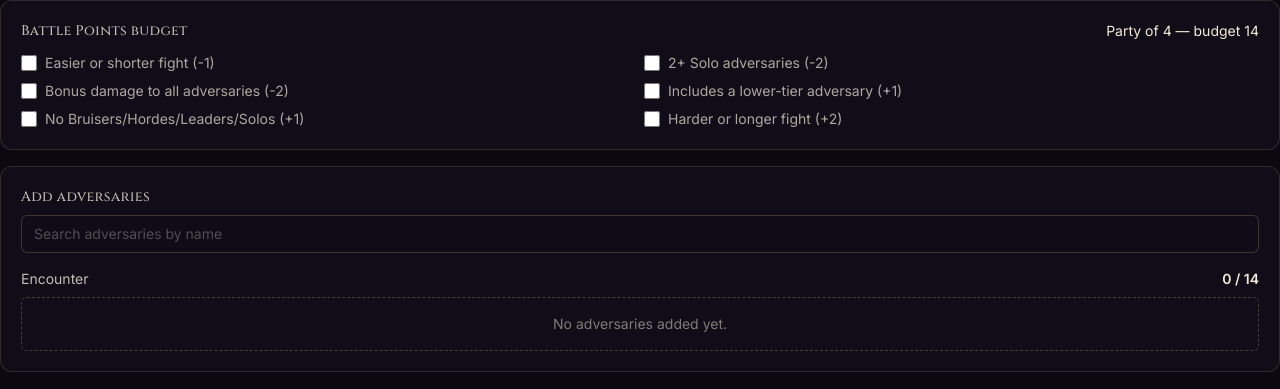
Test: EncounterBuilderPanel › refetches the budget when an adjustment is toggled
Click the checkbox labelled "Harder or longer fight (+2)" at (652, 119), box [644,111,660,127]
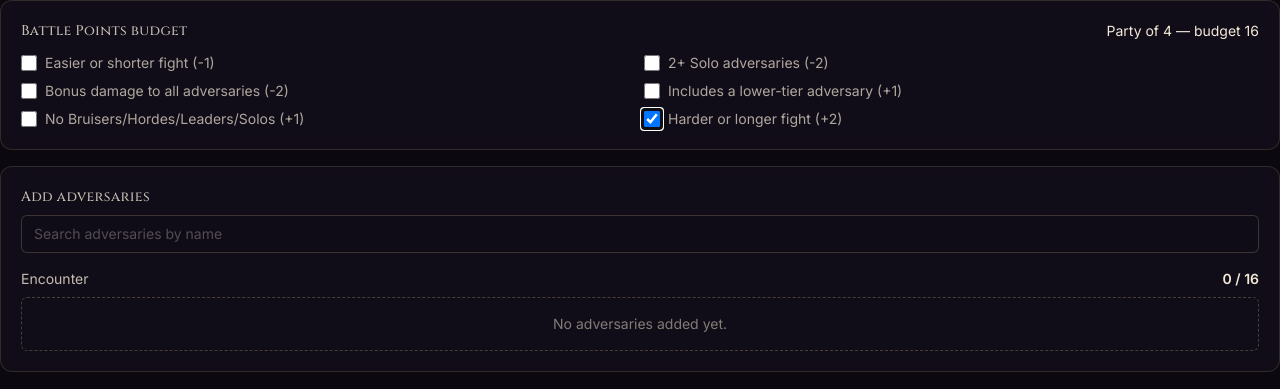
Expected: the text "Party of 4 — budget 16" is shown, [1106,21,1259,41]
